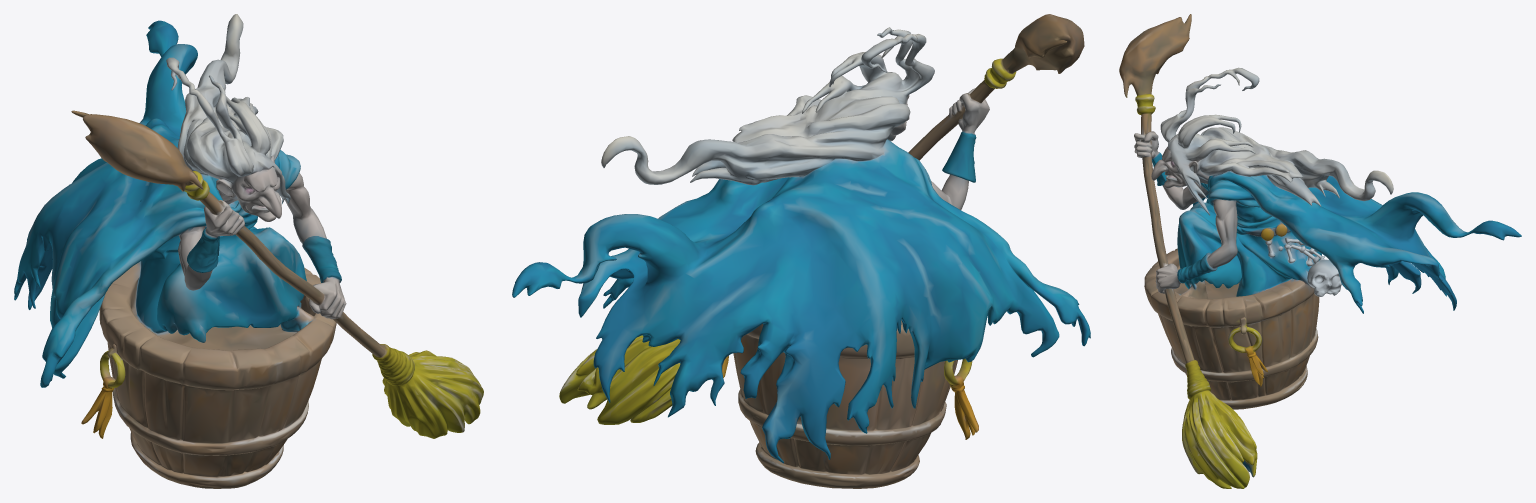
The picture shows the model from 3 angles, left to right: view 1: azimuth 30°, elevation 25°; view 2: azimuth 150°, elevation 25°; view 3: azimuth 270°, elevation 25°; orthographic projection. The views are drawn at different scales.
Parts seen in each view (by area): view 1: Meshy_AI_Moonlit_Hag_on_a_Broomstick_20261120_texture001; view 2: Meshy_AI_Moonlit_Hag_on_a_Broomstick_20261120_texture001; view 3: Meshy_AI_Moonlit_Hag_on_a_Broomstick_20261120_texture001.
Boxes of the visible parts, <box> form: Meshy_AI_Moonlit_Hag_on_a_Broomstick_20261120_texture001: <box>14,14,483,488</box>; Meshy_AI_Moonlit_Hag_on_a_Broomstick_20261120_texture001: <box>512,14,1090,488</box>; Meshy_AI_Moonlit_Hag_on_a_Broomstick_20261120_texture001: <box>1119,14,1521,488</box>.
Size of the model in its own units: 0.019 by 0.0167 by 0.019.
